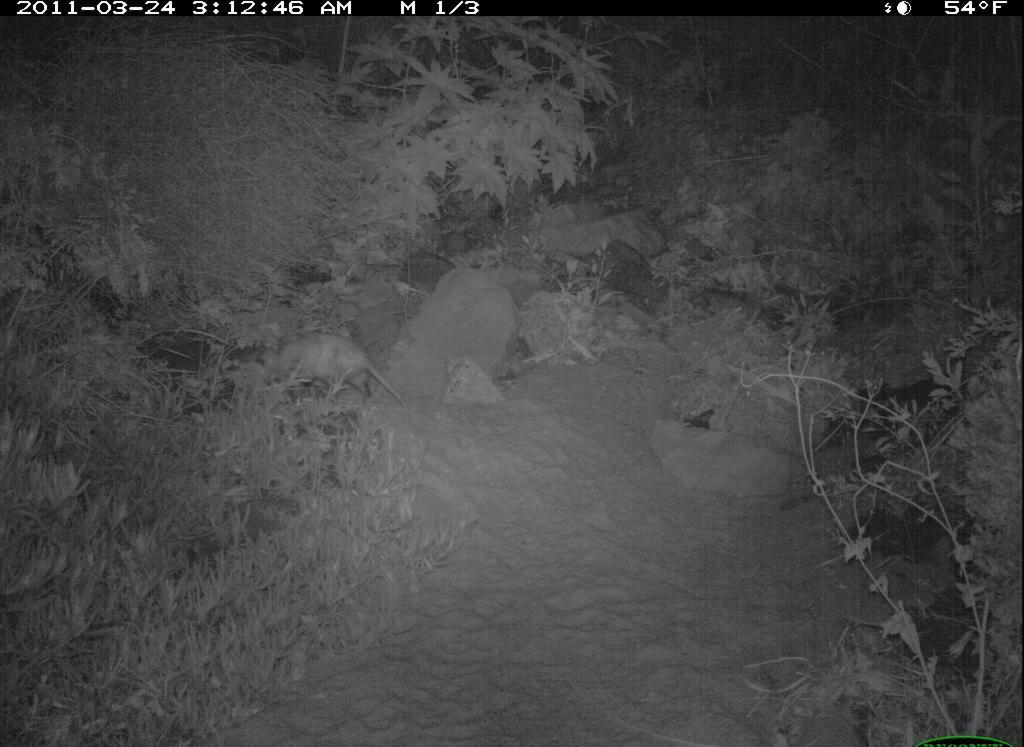opossum: (242, 305, 395, 422)
